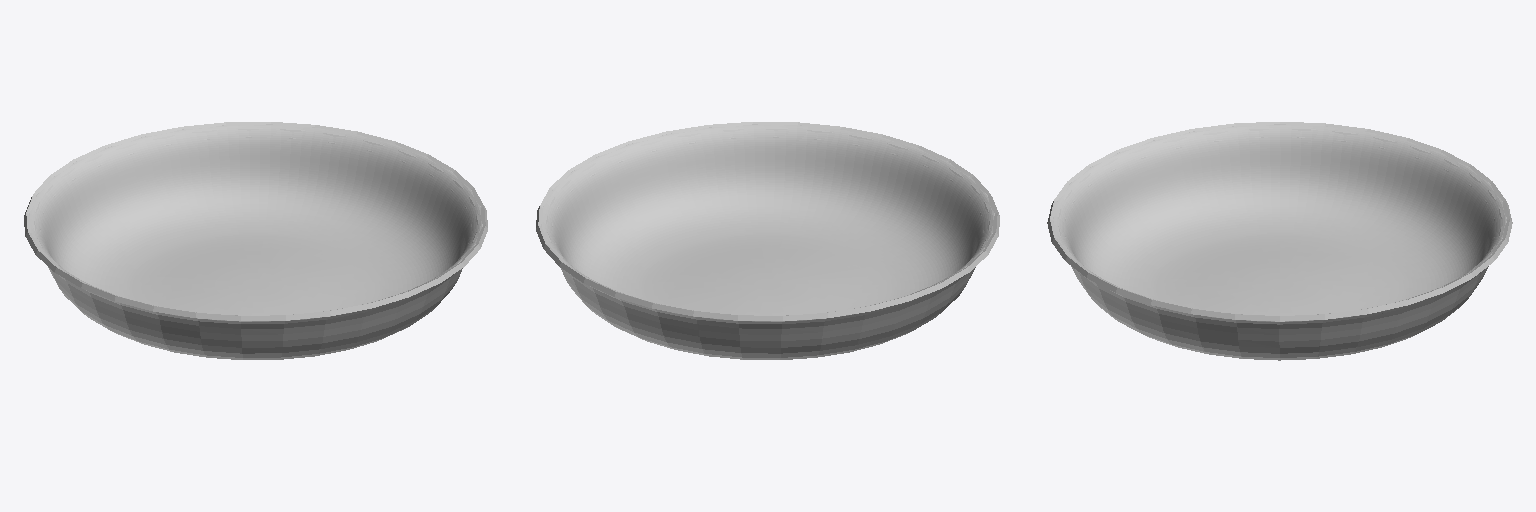
File: try2.obj
3 views of the same model, side by side, from view 1: azimuth 30°, elevation 25°; view 2: azimuth 150°, elevation 25°; view 3: azimuth 270°, elevation 25° (orthographic).
Parts seen in each view (by area): view 1: BowlK2; view 2: BowlK2; view 3: BowlK2.
Boxes of the visible parts, x1=… form: BowlK2: x1=24, y1=122, x2=487, y2=359; BowlK2: x1=536, y1=122, x2=999, y2=359; BowlK2: x1=1047, y1=122, x2=1512, y2=360.
Bounding box in the file's own units: 5.87 × 1.04 × 5.87.